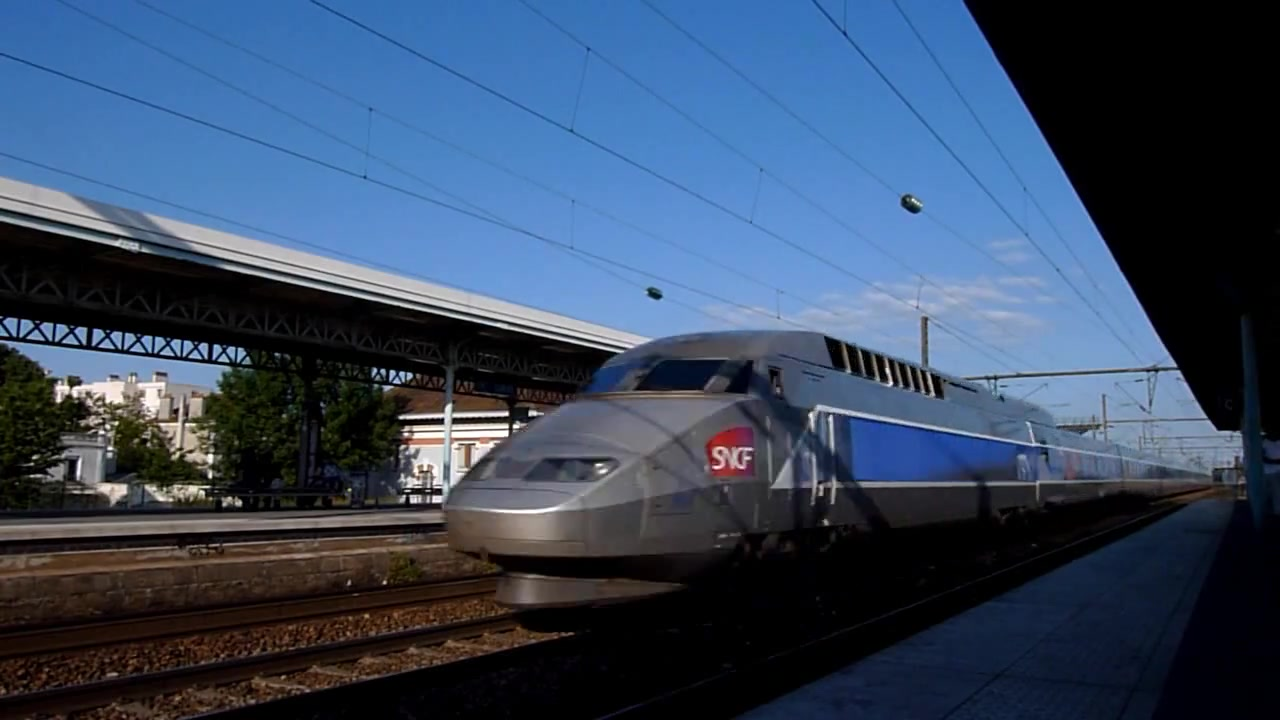train: (441, 328, 1218, 621)
